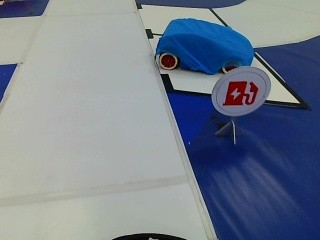battery: (210, 65, 270, 115)
car: (156, 14, 255, 76)
